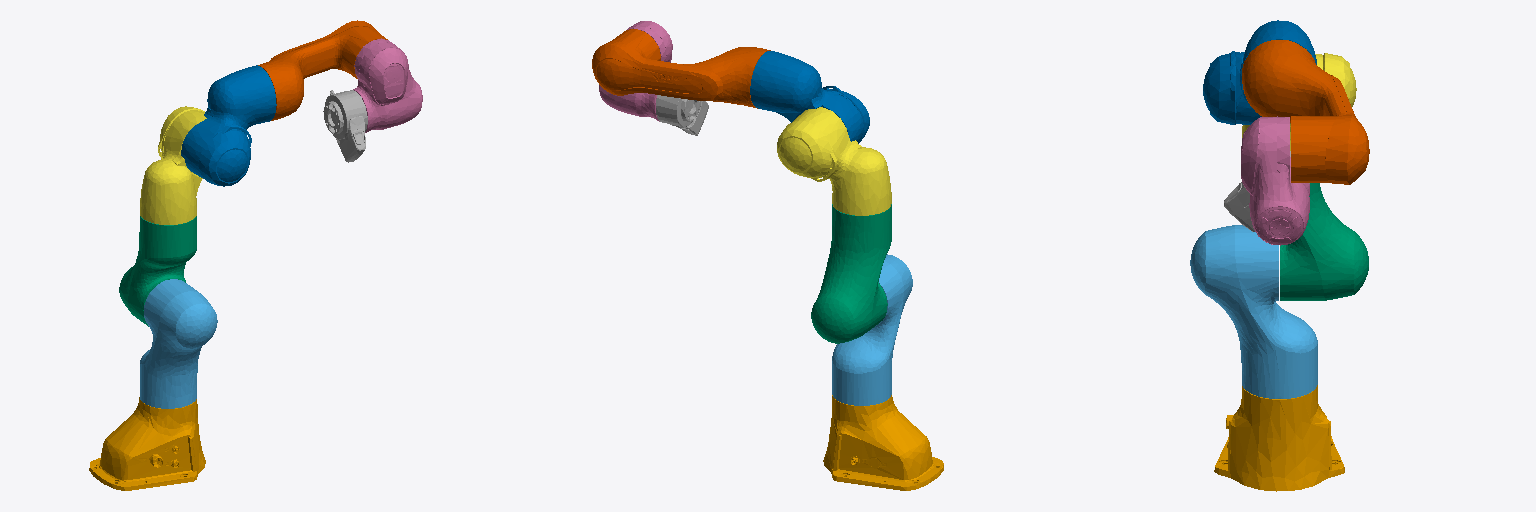
The robot description file, URDF, robot "panda":
<?xml version="1.0" encoding="utf-8"?>
<!-- =================================================================================== -->
<!-- |    This document was autogenerated by xacro from panda_arm.urdf.xacro           | -->
<!-- |    EDITING THIS FILE BY HAND IS NOT RECOMMENDED                                 | -->
<!-- =================================================================================== -->
<robot name="panda">
  <link name="panda_link0">
    <visual>
      <geometry>
        <mesh filename="visual/link0.stl"/>
      </geometry>
    </visual>
    <collision>
      <origin rpy="0 1.57079632679 0" xyz="-0.075 0 0.06"/>
      <geometry>
        <cylinder length="0.03" radius="0.09"/>
      </geometry>
    </collision>
    <collision>
      <origin rpy="0 0 0" xyz="-0.06 0 0.06"/>
      <geometry>
        <sphere radius="0.09"/>
      </geometry>
    </collision>
    <collision>
      <origin rpy="0 0 0" xyz="-0.09 0 0.06"/>
      <geometry>
        <sphere radius="0.09"/>
      </geometry>
    </collision>
  </link>
  <link name="panda_link1">
    <visual>
      <geometry>
        <mesh filename="visual/link1.stl"/>
      </geometry>
    </visual>
    <collision>
      <origin rpy="0 0 0" xyz="0 0 -0.1915"/>
      <geometry>
        <cylinder length="0.2830" radius="0.09"/>
      </geometry>
    </collision>
    <collision>
      <origin rpy="0 0 0" xyz="0 0 -0.333"/>
      <geometry>
        <sphere radius="0.09"/>
      </geometry>
    </collision>
    <collision>
      <origin rpy="0 0 0" xyz="0 0 -0.05"/>
      <geometry>
        <sphere radius="0.09"/>
      </geometry>
    </collision>
  </link>
  <joint name="panda_joint1" type="revolute">
    <safety_controller k_position="100.0" k_velocity="40.0" soft_lower_limit="-2.8973" soft_upper_limit="2.8973"/>
    <origin rpy="0 0 0" xyz="0 0 0.333"/>
    <parent link="panda_link0"/>
    <child link="panda_link1"/>
    <axis xyz="0 0 1"/>
    <limit effort="87" lower="-2.8973" upper="2.8973" velocity="2.1750"/>
  </joint>
  <link name="panda_link2">
    <visual>
      <geometry>
        <mesh filename="visual/link2.stl"/>
      </geometry>
    </visual>
    <collision>
      <origin rpy="0 0 0" xyz="0 0 0"/>
      <geometry>
        <cylinder length="0.12" radius="0.09"/>
      </geometry>
    </collision>
    <collision>
      <origin rpy="0 0 0" xyz="0 0 -0.06"/>
      <geometry>
        <sphere radius="0.09"/>
      </geometry>
    </collision>
    <collision>
      <origin rpy="0 0 0" xyz="0 0 0.06"/>
      <geometry>
        <sphere radius="0.09"/>
      </geometry>
    </collision>
  </link>
  <joint name="panda_joint2" type="revolute">
    <safety_controller k_position="100.0" k_velocity="40.0" soft_lower_limit="-1.7628" soft_upper_limit="1.7628"/>
    <origin rpy="-1.57079632679 0 0" xyz="0 0 0"/>
    <parent link="panda_link1"/>
    <child link="panda_link2"/>
    <axis xyz="0 0 1"/>
    <limit effort="87" lower="-1.7628" upper="1.7628" velocity="2.1750"/>
  </joint>
  <link name="panda_link3">
    <visual>
      <geometry>
        <mesh filename="visual/link3.stl"/>
      </geometry>
    </visual>
    <collision>
      <origin rpy="0 0 0" xyz="0 0 -0.145"/>
      <geometry>
        <cylinder length="0.15" radius="0.09"/>
      </geometry>
    </collision>
    <collision>
      <origin rpy="0 0 0" xyz="0 0 -0.22"/>
      <geometry>
        <sphere radius="0.09"/>
      </geometry>
    </collision>
    <collision>
      <origin rpy="0 0 0" xyz="0 0 -0.07"/>
      <geometry>
        <sphere radius="0.09"/>
      </geometry>
    </collision>
  </link>
  <joint name="panda_joint3" type="revolute">
    <safety_controller k_position="100.0" k_velocity="40.0" soft_lower_limit="-2.8973" soft_upper_limit="2.8973"/>
    <origin rpy="1.57079632679 0 0" xyz="0 -0.316 0"/>
    <parent link="panda_link2"/>
    <child link="panda_link3"/>
    <axis xyz="0 0 1"/>
    <limit effort="87" lower="-2.8973" upper="2.8973" velocity="2.1750"/>
  </joint>
  <link name="panda_link4">
    <visual>
      <geometry>
        <mesh filename="visual/link4.stl"/>
      </geometry>
    </visual>
    <collision>
      <origin rpy="0 0 0" xyz="0 0 0"/>
      <geometry>
        <cylinder length="0.12" radius="0.09"/>
      </geometry>
    </collision>
    <collision>
      <origin rpy="0 0 0" xyz="0 0 0.06"/>
      <geometry>
        <sphere radius="0.09"/>
      </geometry>
    </collision>
    <collision>
      <origin rpy="0 0 0" xyz="0 0 -0.06"/>
      <geometry>
        <sphere radius="0.09"/>
      </geometry>
    </collision>
  </link>
  <joint name="panda_joint4" type="revolute">
    <safety_controller k_position="100.0" k_velocity="40.0" soft_lower_limit="-3.0718" soft_upper_limit="-0.0698"/>
    <origin rpy="1.57079632679 0 0" xyz="0.0825 0 0"/>
    <parent link="panda_link3"/>
    <child link="panda_link4"/>
    <axis xyz="0 0 1"/>
    <limit effort="87" lower="-3.0718" upper="-0.0698" velocity="2.1750"/>
  </joint>
  <link name="panda_link5">
    <visual>
      <geometry>
        <mesh filename="visual/link5.stl"/>
      </geometry>
    </visual>
    <collision>
      <origin rpy="0 0 0" xyz="0 0 -0.26"/>
      <geometry>
        <cylinder length="0.1" radius="0.09"/>
      </geometry>
    </collision>
    <collision>
      <origin rpy="0 0 0" xyz="0 0 -0.31"/>
      <geometry>
        <sphere radius="0.09"/>
      </geometry>
    </collision>
    <collision>
      <origin rpy="0 0 0" xyz="0 0 -0.21"/>
      <geometry>
        <sphere radius="0.09"/>
      </geometry>
    </collision>
    <collision>
      <origin rpy="0 0 0" xyz="0 0.08 -0.13"/>
      <geometry>
        <cylinder length="0.14" radius="0.055"/>
      </geometry>
    </collision>
    <collision>
      <origin rpy="0 0 0" xyz="0 0.08 -0.06"/>
      <geometry>
        <sphere radius="0.055"/>
      </geometry>
    </collision>
    <collision>
      <origin rpy="0 0 0" xyz="0 0.08 -0.20"/>
      <geometry>
        <sphere radius="0.055"/>
      </geometry>
    </collision>
  </link>
  <joint name="panda_joint5" type="revolute">
    <safety_controller k_position="100.0" k_velocity="40.0" soft_lower_limit="-2.8973" soft_upper_limit="2.8973"/>
    <origin rpy="-1.57079632679 0 0" xyz="-0.0825 0.384 0"/>
    <parent link="panda_link4"/>
    <child link="panda_link5"/>
    <axis xyz="0 0 1"/>
    <limit effort="12" lower="-2.8973" upper="2.8973" velocity="2.6100"/>
  </joint>
  <link name="panda_link6">
    <visual>
      <geometry>
        <mesh filename="visual/link6.stl"/>
      </geometry>
    </visual>
    <collision>
      <origin rpy="0 0 0" xyz="0 0 -0.03"/>
      <geometry>
        <cylinder length="0.08" radius="0.08"/>
      </geometry>
    </collision>
    <collision>
      <origin rpy="0 0 0" xyz="0 0 0.01"/>
      <geometry>
        <sphere radius="0.08"/>
      </geometry>
    </collision>
    <collision>
      <origin rpy="0 0 0" xyz="0 0 -0.07"/>
      <geometry>
        <sphere radius="0.08"/>
      </geometry>
    </collision>
  </link>
  <joint name="panda_joint6" type="revolute">
    <safety_controller k_position="100.0" k_velocity="40.0" soft_lower_limit="-0.0175" soft_upper_limit="3.7525"/>
    <origin rpy="1.57079632679 0 0" xyz="0 0 0"/>
    <parent link="panda_link5"/>
    <child link="panda_link6"/>
    <axis xyz="0 0 1"/>
    <limit effort="12" lower="-0.0175" upper="3.7525" velocity="2.6100"/>
  </joint>
  <link name="panda_link7">
    <visual>
      <geometry>
        <mesh filename="visual/link7.stl"/>
      </geometry>
    </visual>
    <collision>
      <origin rpy="0 0 0" xyz="0 0 0.01"/>
      <geometry>
        <cylinder length="0.14" radius="0.07"/>
      </geometry>
    </collision>
    <collision>
      <origin rpy="0 0 0" xyz="0 0 0.08"/>
      <geometry>
        <sphere radius="0.07"/>
      </geometry>
    </collision>
    <collision>
      <origin rpy="0 0 0" xyz="0 0 -0.06"/>
      <geometry>
        <sphere radius="0.07"/>
      </geometry>
    </collision>
  </link>
  <joint name="panda_joint7" type="revolute">
    <safety_controller k_position="100.0" k_velocity="40.0" soft_lower_limit="-2.8973" soft_upper_limit="2.8973"/>
    <origin rpy="1.57079632679 0 0" xyz="0.088 0 0"/>
    <parent link="panda_link6"/>
    <child link="panda_link7"/>
    <axis xyz="0 0 1"/>
    <limit effort="12" lower="-2.8973" upper="2.8973" velocity="2.6100"/>
  </joint>
  <link name="panda_link8">
    <collision>
      <origin rpy="3.14159265359 1.57079632679 1.57079632679" xyz="0.0424 0.0424 -0.0250"/>
      <geometry>
        <cylinder length="0.01" radius="0.06"/>
      </geometry>
    </collision>
    <collision>
      <origin rpy="0 0 0" xyz="0.0424 0.0424 -0.02"/>
      <geometry>
        <sphere radius="0.06"/>
      </geometry>
    </collision>
    <collision>
      <origin rpy="0 0 0" xyz="0.0424 0.0424 -0.03"/>
      <geometry>
        <sphere radius="0.06"/>
      </geometry>
    </collision>
  </link>
  <joint name="panda_joint8" type="fixed">
    <origin rpy="0 0 0" xyz="0 0 0.107"/>
    <parent link="panda_link7"/>
    <child link="panda_link8"/>
  </joint>
</robot>

--- Facts derived from the render (not from the file) ---
3 views of the same robot in one strip: view 1: azimuth 30°, elevation 25°; view 2: azimuth 150°, elevation 25°; view 3: azimuth 270°, elevation 25° (orthographic).
Model panda with 9 links and 8 joints (7 revolute, 1 fixed), rooted at panda_link0, posed joints at zero except 1 at the middle of their limits (panda_joint4 = -1.57).
Visible links, largest first — view 1: panda_link0, panda_link1, panda_link4, panda_link3, panda_link5, panda_link6, panda_link2, panda_link7; view 2: panda_link0, panda_link5, panda_link2, panda_link3, panda_link1, panda_link4, panda_link6, panda_link7; view 3: panda_link1, panda_link5, panda_link0, panda_link2, panda_link6, panda_link4, panda_link3, panda_link7.
Link boxes in pixels (x1,y1,x2,y2): panda_link0: (89,397,205,490); panda_link1: (140,279,217,408); panda_link4: (181,65,276,186); panda_link3: (140,106,206,224); panda_link5: (258,20,387,120); panda_link6: (353,38,422,132); panda_link2: (119,216,196,326); panda_link7: (323,90,367,162); panda_link0: (823,395,943,490); panda_link5: (592,29,770,108); panda_link2: (811,204,891,343); panda_link3: (777,107,891,215); panda_link1: (832,254,912,405); panda_link4: (750,51,869,143); panda_link6: (599,21,672,121); panda_link7: (656,95,708,135); panda_link1: (1190,225,1317,398); panda_link5: (1242,40,1369,184); panda_link0: (1214,385,1344,491); panda_link2: (1280,183,1368,300); panda_link6: (1241,116,1309,245); panda_link4: (1203,20,1316,124); panda_link3: (1242,53,1356,150); panda_link7: (1224,151,1309,231).
Size in the robot's own frame: 0.7019 by 0.2596 by 0.7867 metres.
Meshes: 8 distinct files referenced, 8 mesh visuals loaded (8 binary STL).